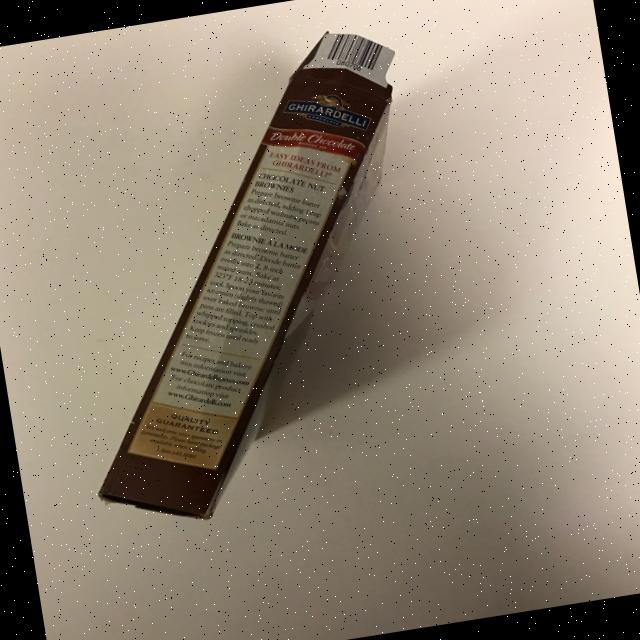paper: (0, 0, 640, 640), (31, 21, 464, 536)
